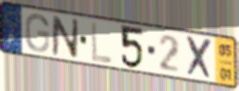2: (158, 34, 181, 74)
5: (118, 24, 146, 71)
G: (24, 13, 51, 54)
L: (90, 21, 113, 66)
N: (51, 14, 80, 61)
X: (186, 35, 214, 82)
